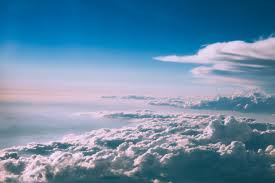sky: (2, 1, 271, 183)
